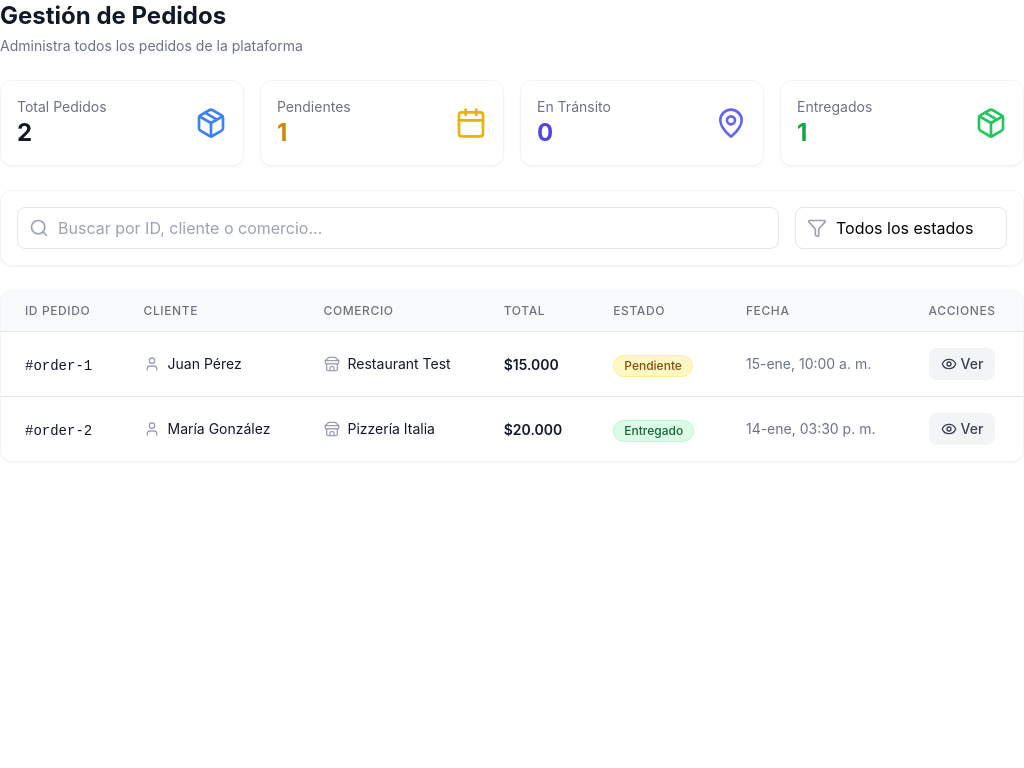
Orders Component › Modal de detalle › debe cerrar modal al hacer clic en X
Expected: the text "Restaurant Test" is shown, [348,354,451,374]
Click the button "Ver" in the row of "order-1" at (962, 364), box [929,348,995,380]
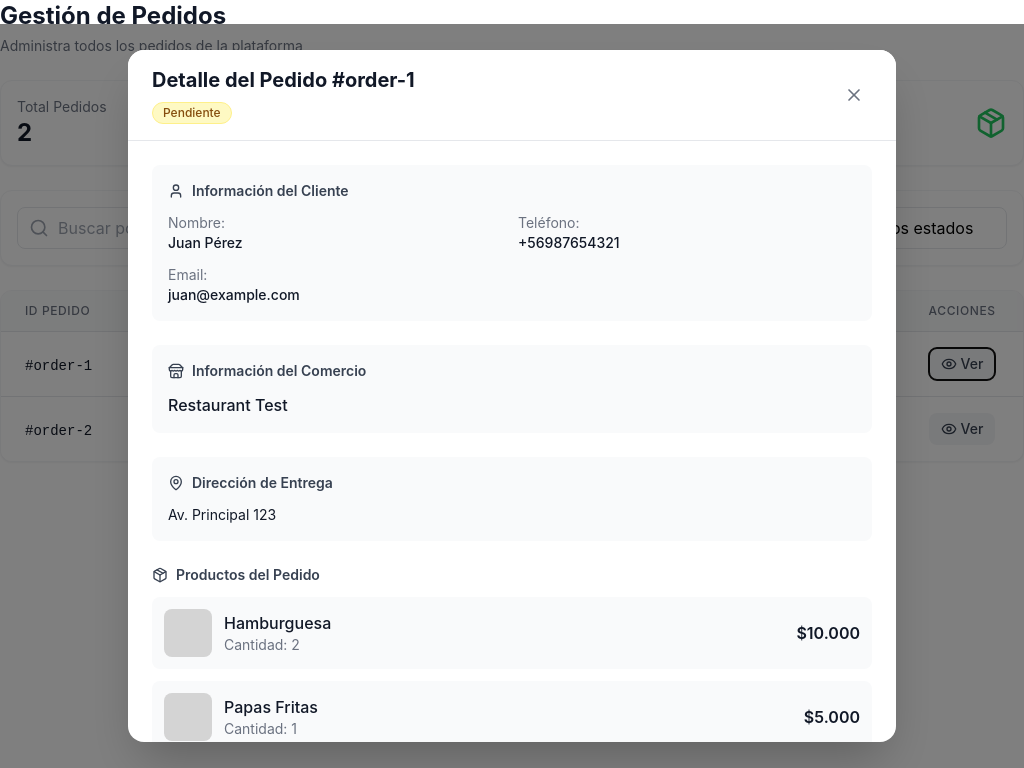
Expected: the heading "Detalle del Pedido #order-1" is shown, [152,66,415,94]
Click the button at (854, 95), box [836,77,872,113]
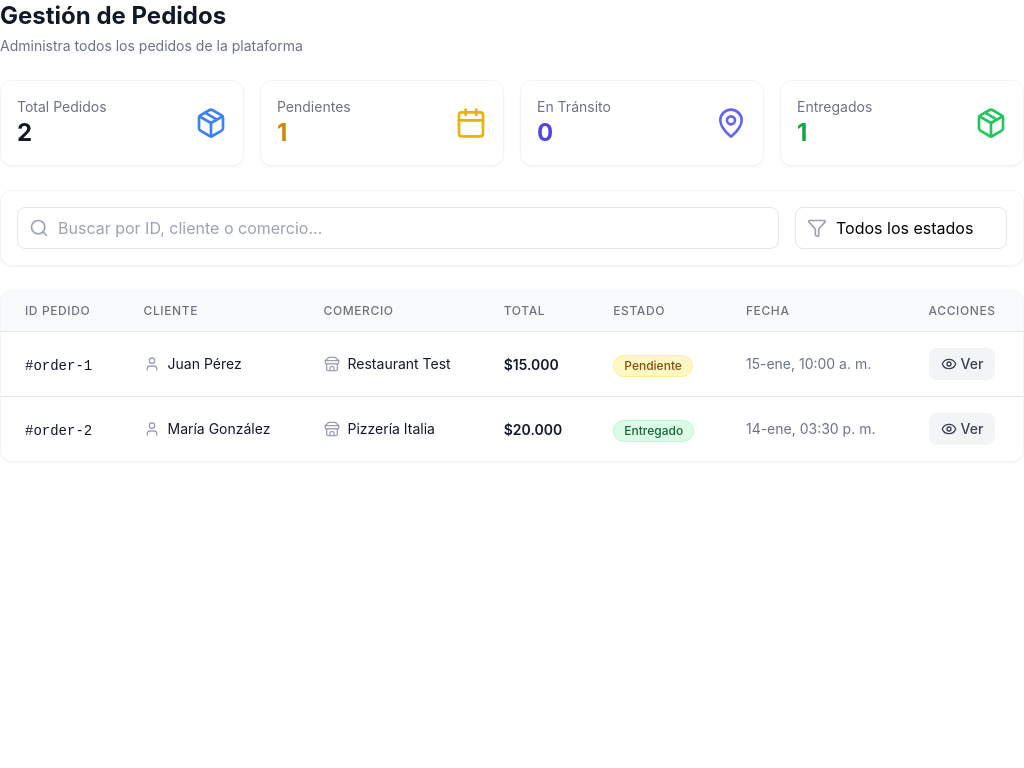
Expected: the heading "Detalle del Pedido" is gone
